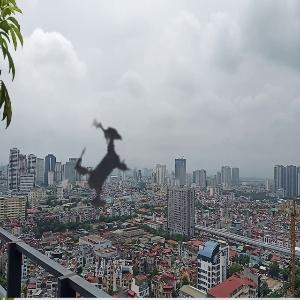drone: (29, 100, 173, 244)
